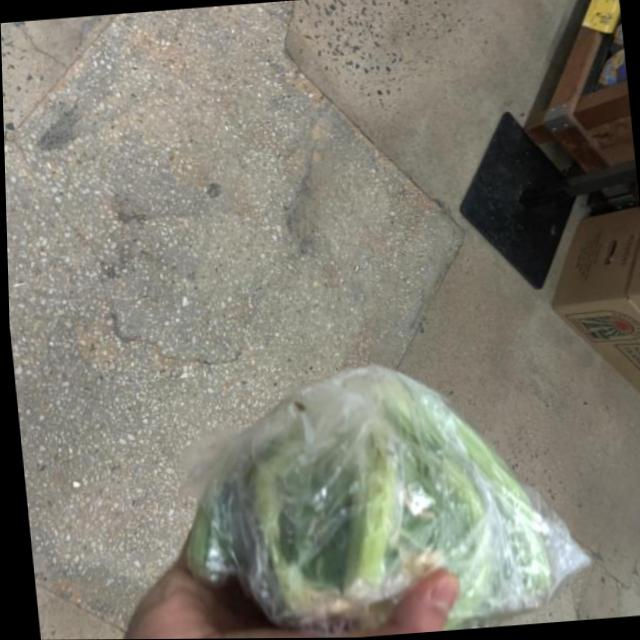Cauliflower: (139, 348, 604, 639)
